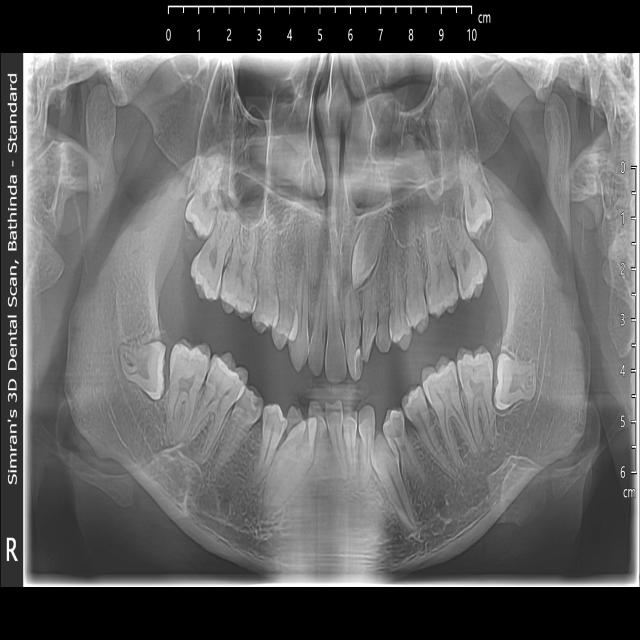Caries: (383, 408, 404, 447)
impacted tooth: (265, 417, 315, 512), (184, 145, 220, 238), (117, 340, 169, 400), (352, 200, 386, 285), (458, 144, 493, 226), (497, 355, 537, 407)
